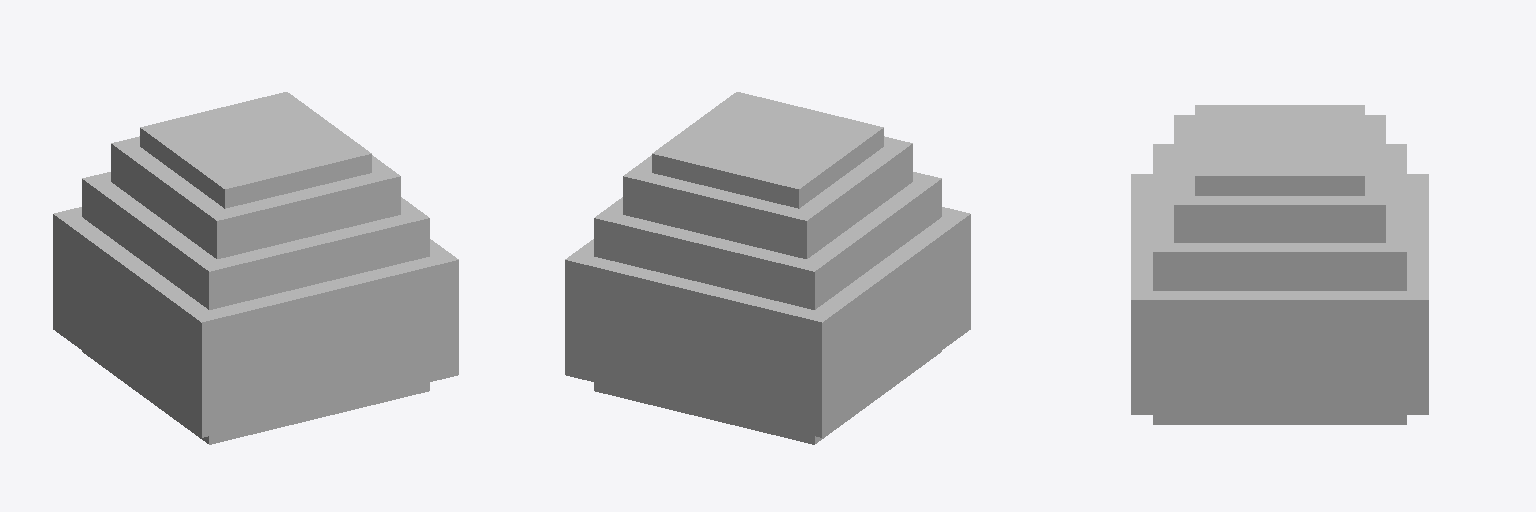
Rendered from oeuf.obj.
3 views of the same model, side by side, from view 1: azimuth 30°, elevation 25°; view 2: azimuth 150°, elevation 25°; view 3: azimuth 270°, elevation 25° (orthographic).
Parts seen in each view (by area): view 1: cube; view 2: cube; view 3: cube.
Boxes of the visible parts, x1,y1,x2,y2 form: cube: [53, 92, 458, 444]; cube: [565, 92, 970, 444]; cube: [1131, 105, 1428, 424].
Bounding box in the file's own units: 0.875 × 0.75 × 0.875.